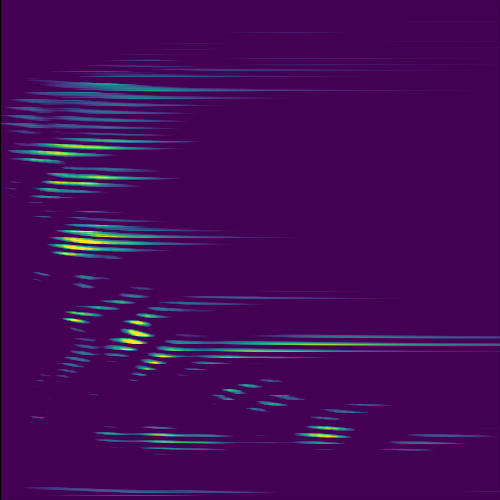semblance: (63, 300, 191, 376), (52, 217, 129, 264), (31, 135, 118, 161), (41, 168, 129, 191), (303, 421, 351, 444)
